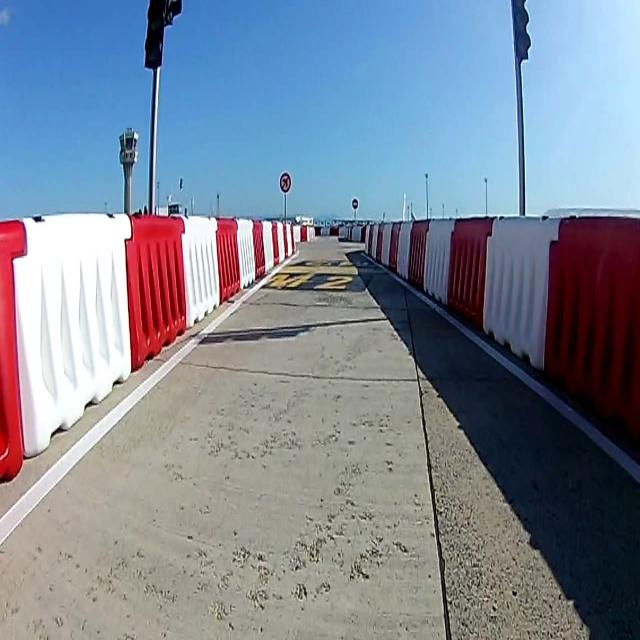soladonulmez: (280, 173, 291, 191)
